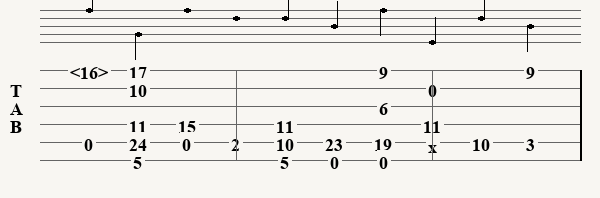0: (84, 134, 97, 150), (182, 134, 195, 150), (330, 152, 343, 168), (379, 152, 392, 168), (428, 80, 441, 96)
10: (129, 80, 151, 96), (276, 134, 298, 150), (472, 134, 494, 150)
11: (129, 116, 151, 132), (276, 116, 298, 132), (423, 116, 445, 132)
15: (178, 116, 200, 132)
17: (129, 62, 151, 78)
19: (374, 134, 396, 150)
2: (231, 134, 244, 150)
23: (325, 134, 347, 150)
24: (129, 134, 151, 150)
3: (526, 134, 539, 150)
5: (133, 152, 146, 168), (280, 152, 293, 168)
6: (379, 98, 392, 114)
9: (379, 62, 392, 78), (526, 62, 539, 78)
harmonic: (70, 62, 112, 78)
x: (428, 136, 441, 148)
